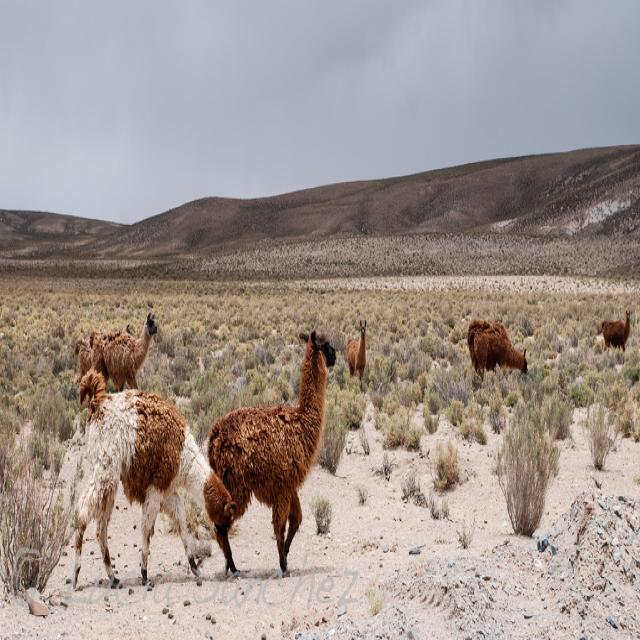alpaca: (80, 374, 234, 580), (210, 330, 335, 570), (90, 311, 157, 394), (468, 316, 529, 382), (346, 315, 368, 386), (601, 306, 631, 352)
